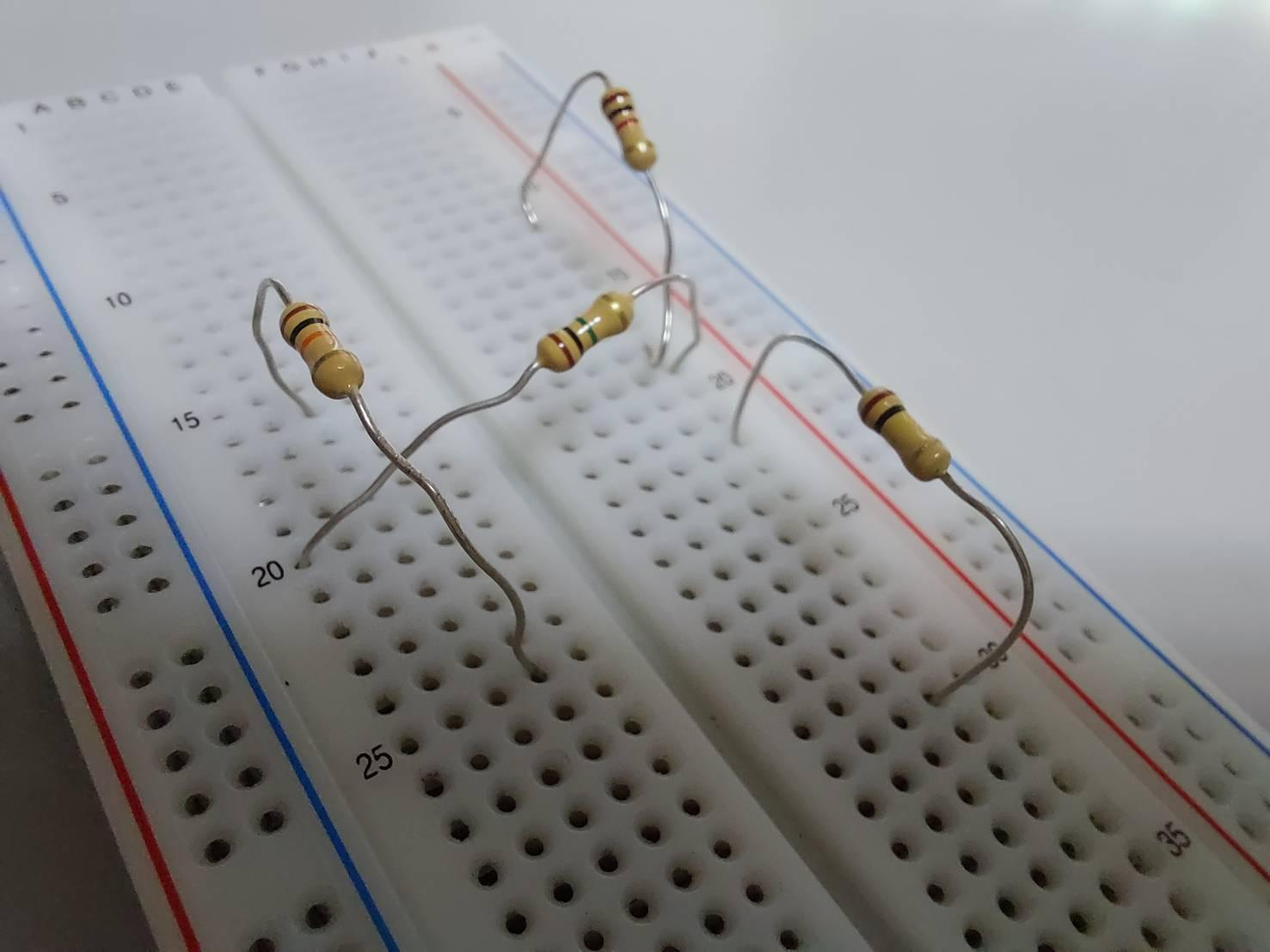resistor: (857, 378, 949, 484), (540, 279, 638, 374), (284, 295, 364, 398), (600, 83, 662, 173)
